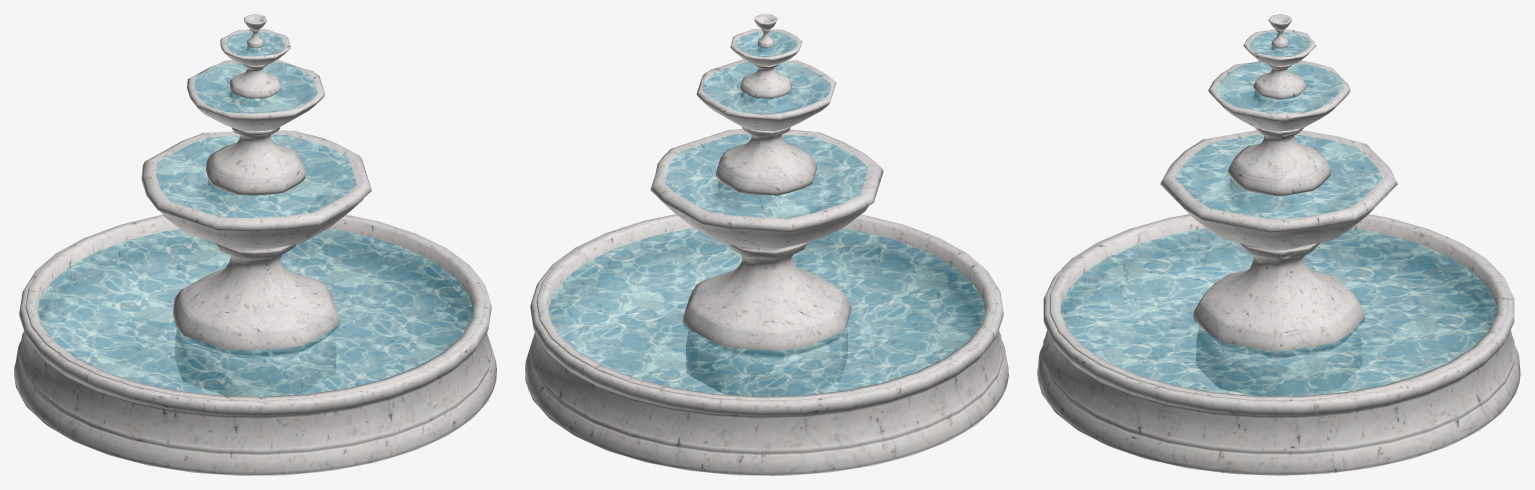
The model's file is fountain.glb.
The picture shows the model from 3 angles, left to right: view 1: azimuth 30°, elevation 25°; view 2: azimuth 150°, elevation 25°; view 3: azimuth 270°, elevation 25°; orthographic projection.
Parts seen in each view (by area): view 1: fountain; view 2: fountain; view 3: fountain.
Part boxes in pixels (bbox=[...]): fountain: bbox=[14, 14, 496, 475]; fountain: bbox=[525, 14, 1008, 475]; fountain: bbox=[1037, 14, 1520, 475].
Size of the model in its own units: 1.7 by 1.38 by 1.7.
Materials: 2 (2 with a texture image).
